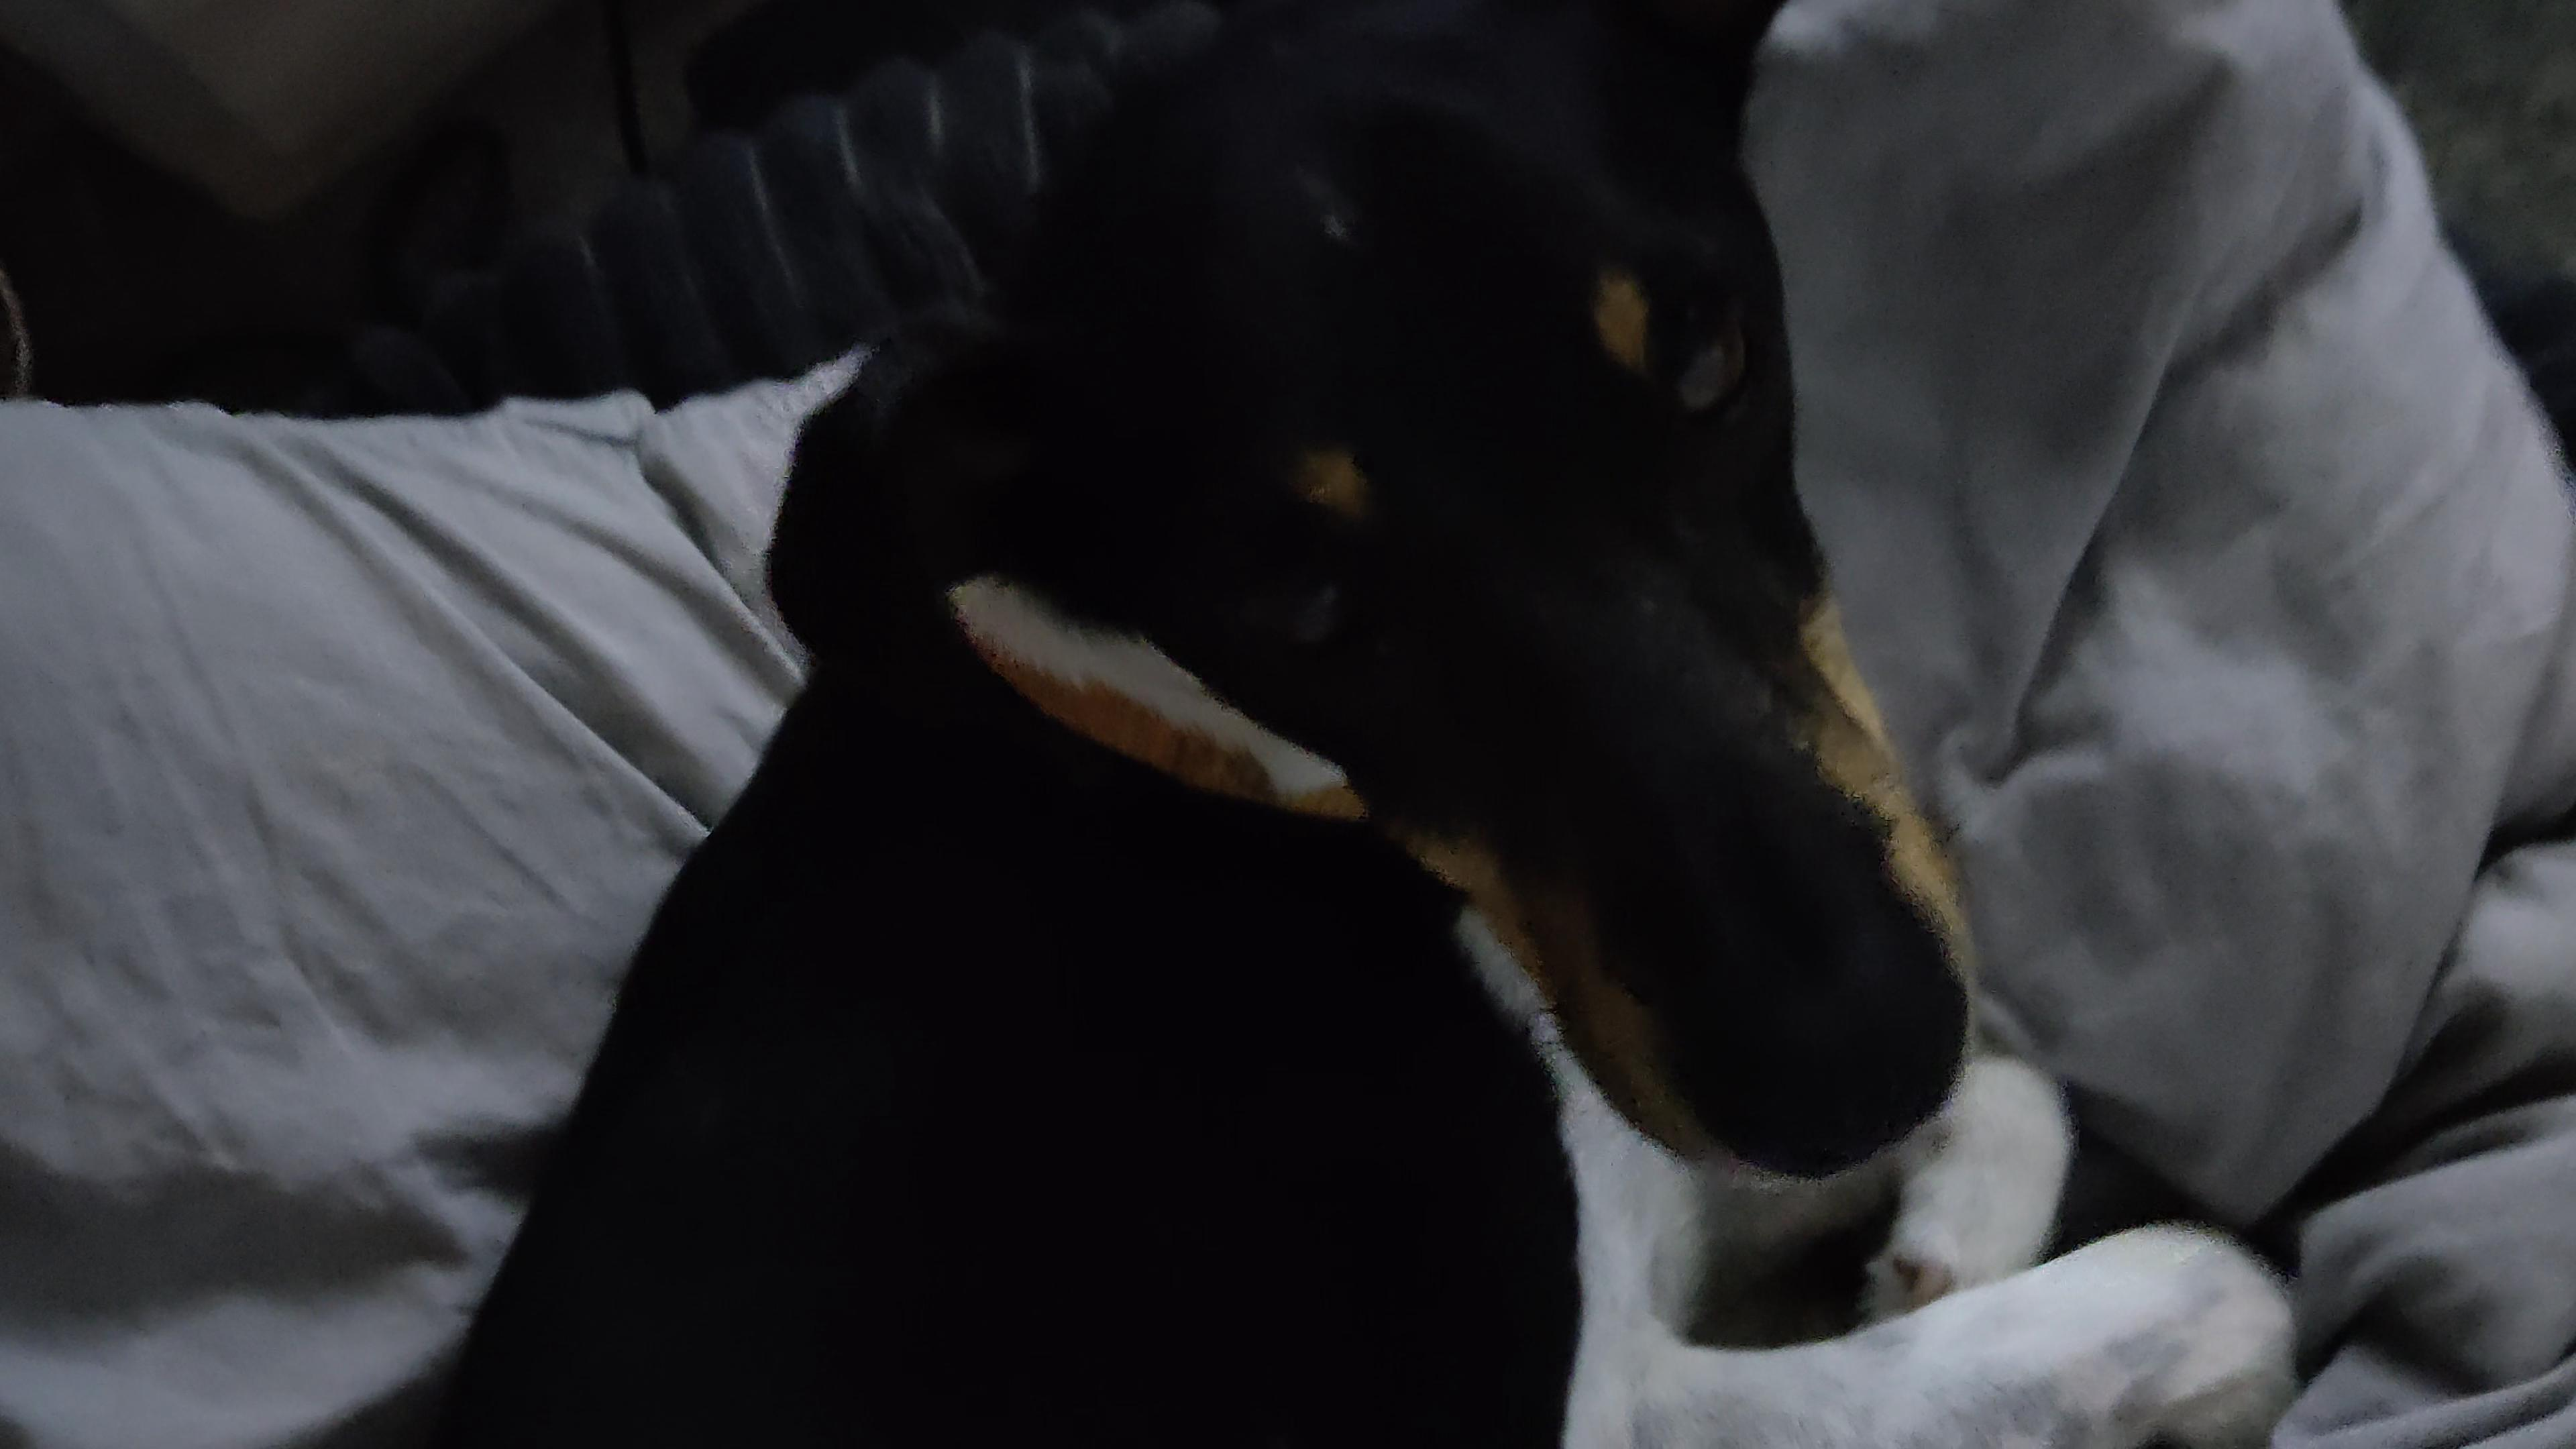Dog: (382, 0, 2332, 1449)
